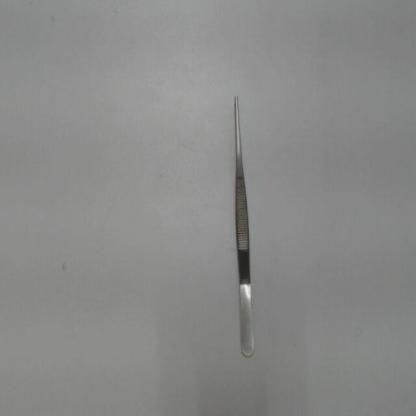Gillies Toothed Dissector: (224, 77, 256, 360)
